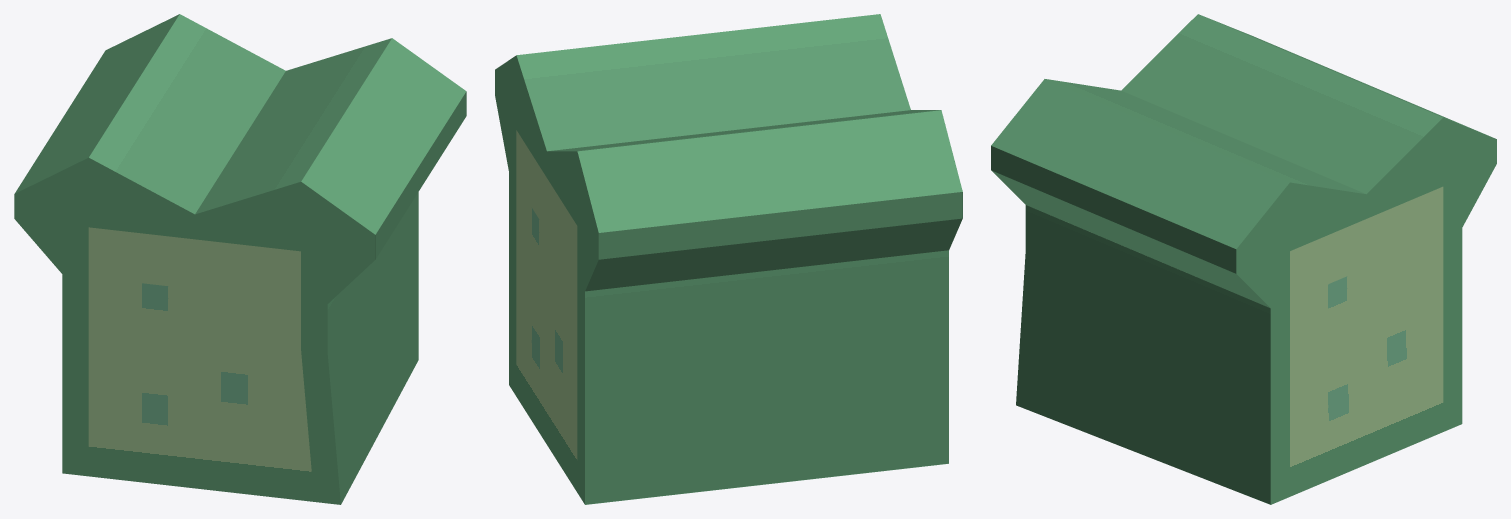
Rendered from slime_bread-optimized.glb.
3 views of the same model, side by side, from view 1: azimuth 30°, elevation 25°; view 2: azimuth 150°, elevation 25°; view 3: azimuth 270°, elevation 25° (orthographic). The views are drawn at different scales.
Visible parts, largest first — view 1: cuboid; view 2: cuboid; view 3: cuboid.
Part boxes in pixels (box(x1,y1,x2,y2)): cuboid: box(14, 14, 466, 504); cuboid: box(495, 14, 962, 504); cuboid: box(991, 14, 1496, 504).
Bounding box in the file's own units: 0.7292 × 0.5 × 0.7292.
1 material, 1 textured.
